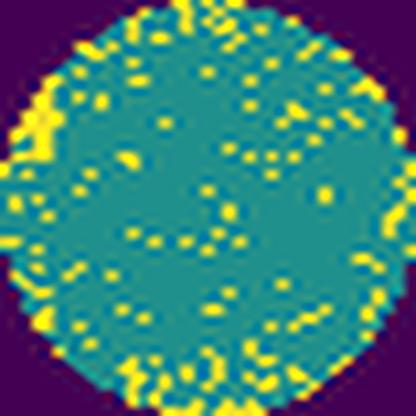Edge-Loc: (0, 75, 65, 167), (118, 362, 204, 415), (218, 395, 269, 416)
